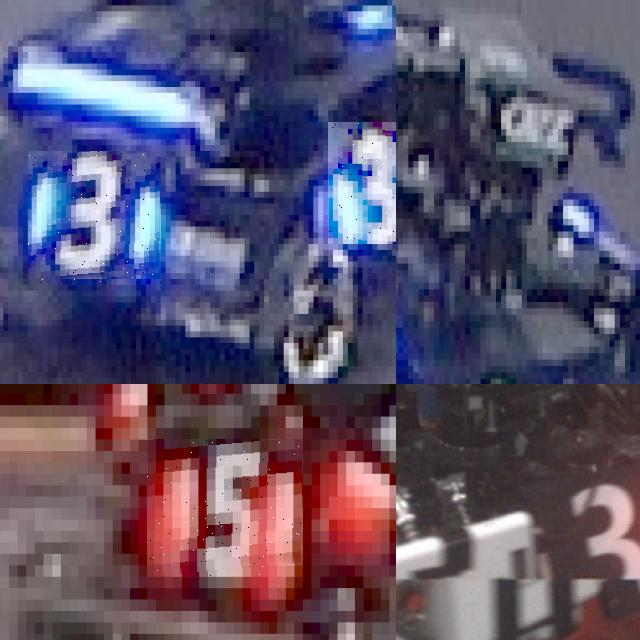B3: (28, 151, 161, 285), (328, 122, 396, 244)
R5: (147, 439, 303, 577)
